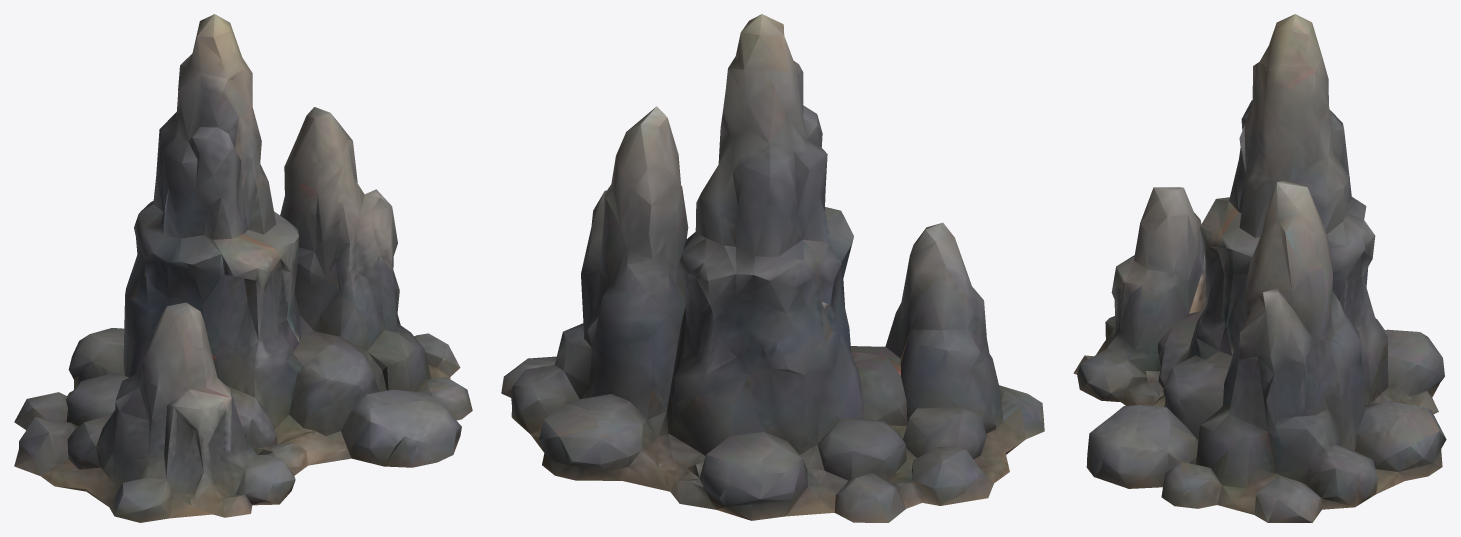
File: estalagmitas_a_1500.glb
The picture shows the model from 3 angles, left to right: view 1: azimuth 30°, elevation 25°; view 2: azimuth 150°, elevation 25°; view 3: azimuth 270°, elevation 25°; orthographic projection. The views are drawn at different scales.
Parts seen in each view (by area): view 1: estalagmitas_a_malla; view 2: estalagmitas_a_malla; view 3: estalagmitas_a_malla.
Part boxes in pixels (x1=…): estalagmitas_a_malla: x1=14, y1=14, x2=472, y2=522; estalagmitas_a_malla: x1=501, y1=14, x2=1044, y2=522; estalagmitas_a_malla: x1=1073, y1=14, x2=1446, y2=522.
Size of the model in its own units: 0.4116 by 0.3573 by 0.3045.
Materials: 1 (1 with a texture image).
